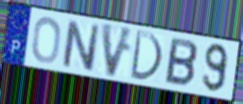9: (201, 42, 230, 95)
B: (163, 35, 199, 89)
D: (128, 28, 164, 84)
N: (61, 17, 101, 73)
O: (31, 15, 63, 65)
V: (100, 21, 136, 80)
